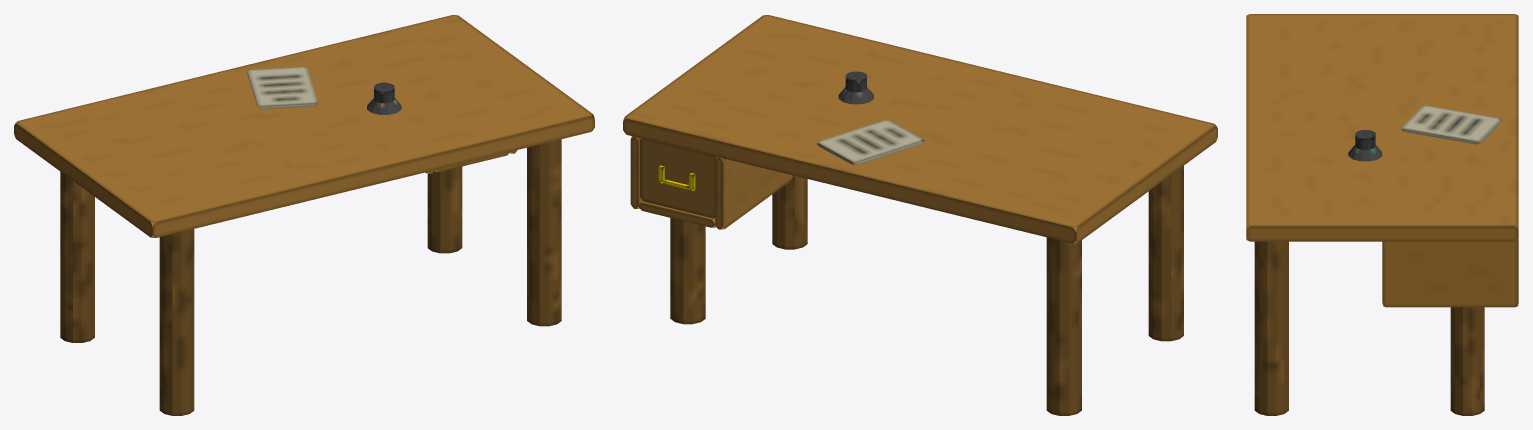
Rendered from writingtable.fbx.
3 views of the same model, side by side, from view 1: azimuth 30°, elevation 25°; view 2: azimuth 150°, elevation 25°; view 3: azimuth 270°, elevation 25° (orthographic). The views are drawn at different scales.
Visible parts, largest first — view 1: cube, cylinder_2, cylinder_3, cylinder_1, cylinder, cube_8; view 2: cube, cylinder_1, cylinder_2, cube_4, cylinder, cube_2, cube_8, cylinder_3, cube_3, cube_1; view 3: cube, cube_1, cylinder_3, cylinder, cube_8, cone, cylinder_4.
Part boxes in pixels (x1,y1,x2,y2): cube: (14, 15, 594, 237); cylinder_2: (159, 229, 194, 415); cylinder_3: (527, 139, 561, 326); cylinder_1: (60, 172, 94, 342); cylinder: (427, 166, 462, 253); cube_8: (247, 67, 318, 109); cube: (623, 15, 1217, 243); cylinder_1: (1046, 237, 1081, 415); cylinder_2: (1148, 166, 1183, 341); cube_4: (640, 138, 715, 218); cylinder: (670, 218, 705, 324); cube_2: (715, 156, 793, 229); cube_8: (816, 120, 924, 164); cylinder_3: (772, 175, 807, 249); cube_3: (638, 156, 716, 227); cube_1: (630, 136, 641, 208); cube: (1246, 14, 1518, 241); cube_1: (1382, 240, 1518, 307); cylinder_3: (1254, 241, 1288, 415); cylinder: (1450, 307, 1484, 415); cube_8: (1401, 105, 1502, 144); cone: (1348, 133, 1382, 161); cylinder_4: (1355, 130, 1375, 149).
Size of the model in its own units: 123 by 60 by 66.67.
Materials: 1 (1 with a texture image).
